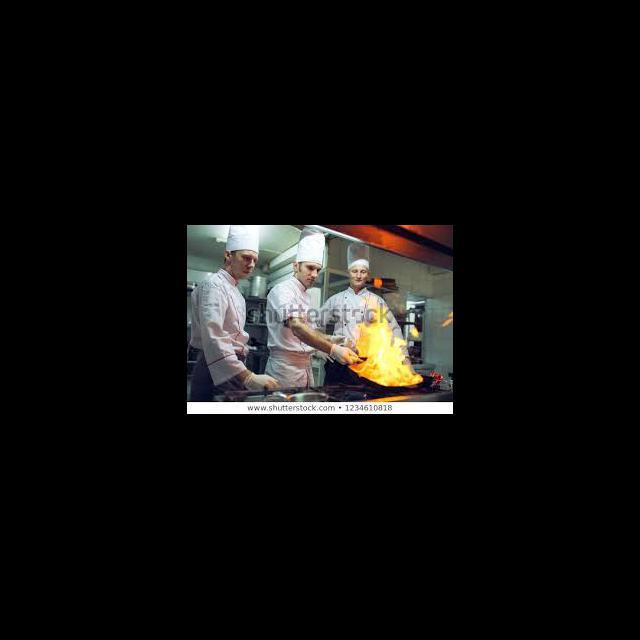Fire: (339, 294, 426, 388)
